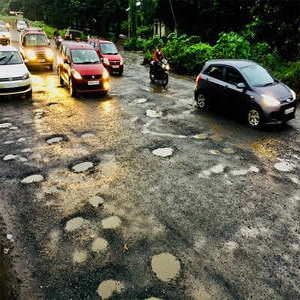pothole: (149, 251, 183, 285), (97, 276, 126, 300), (61, 211, 89, 231), (70, 159, 100, 171), (101, 215, 121, 230), (20, 172, 45, 183), (90, 238, 108, 253), (152, 146, 176, 157), (44, 136, 65, 144)
